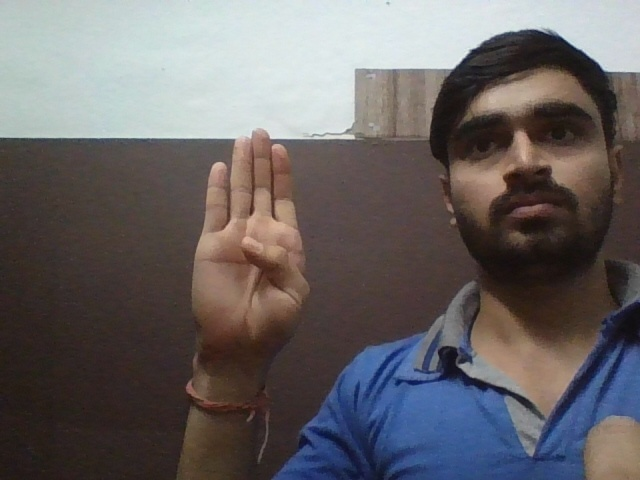B: (193, 127, 320, 367)
